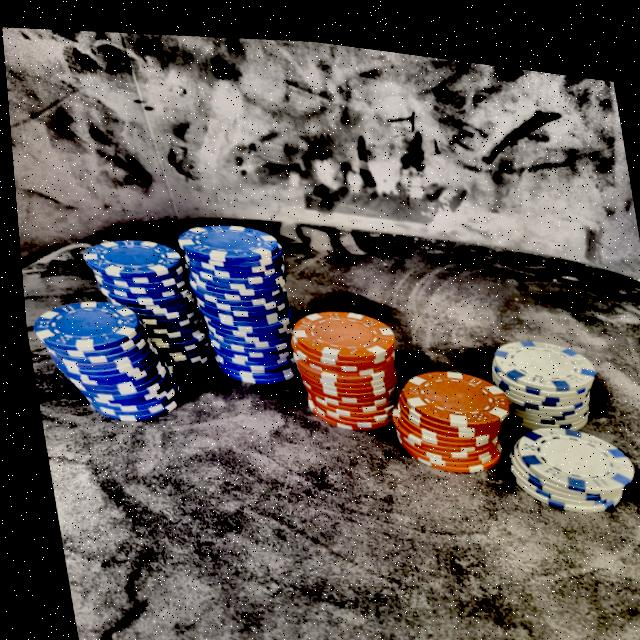Chip: (163, 201, 305, 398), (25, 265, 177, 437), (69, 215, 207, 386), (364, 328, 514, 485), (272, 274, 407, 442), (491, 389, 637, 520), (464, 305, 599, 436)
